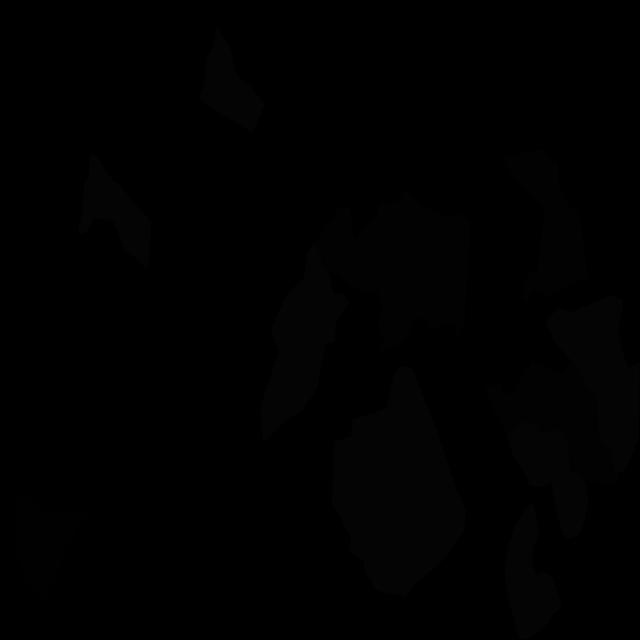cardboard: (315, 191, 470, 352), (484, 360, 618, 485), (502, 149, 588, 303)
rigid_plastic: (13, 495, 88, 608)
soft_plastic: (332, 365, 466, 597), (260, 243, 350, 444), (545, 295, 640, 473), (506, 420, 588, 538), (78, 154, 152, 269), (504, 502, 562, 640), (199, 26, 265, 133)
